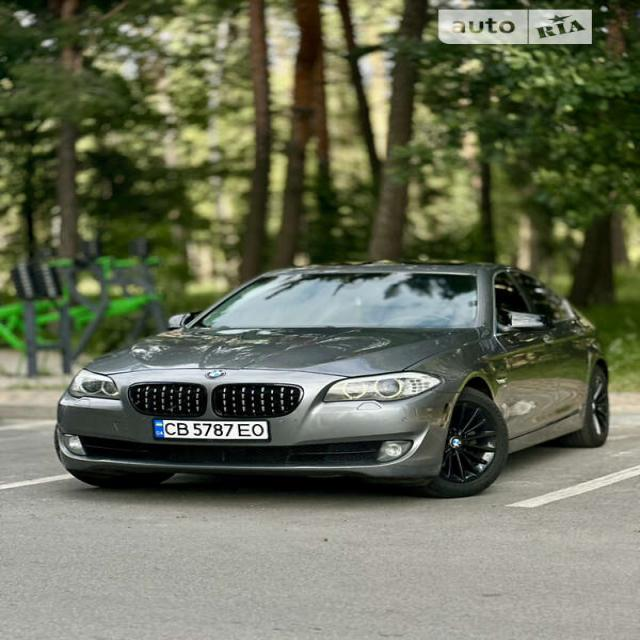plate: (150, 406, 278, 446)
